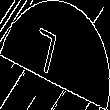L_S: (39, 26, 71, 84)
